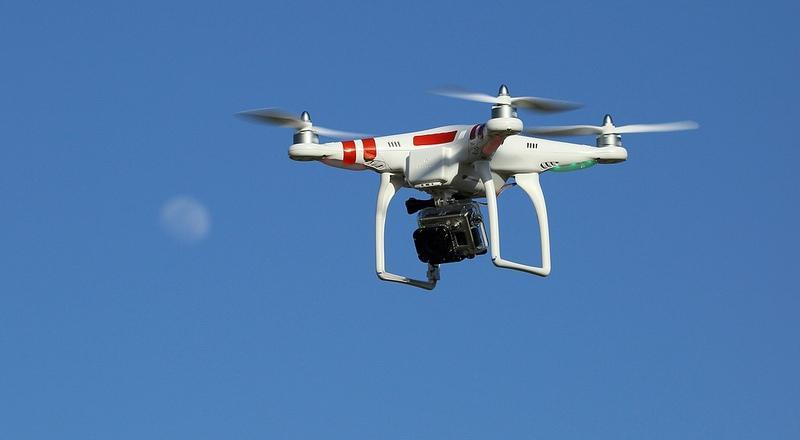drone: (206, 58, 713, 298)
